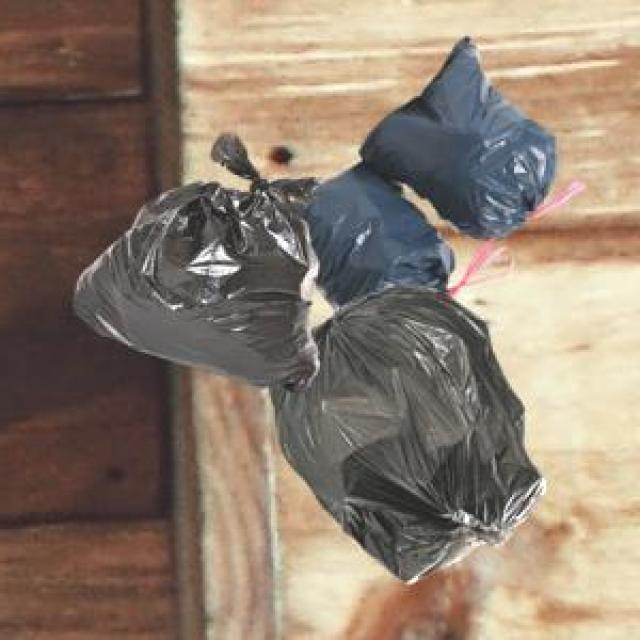Trashbag: (268, 288, 546, 588), (71, 172, 322, 392), (361, 35, 558, 242)
